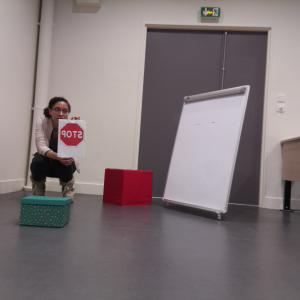stop: (60, 123, 85, 146)
